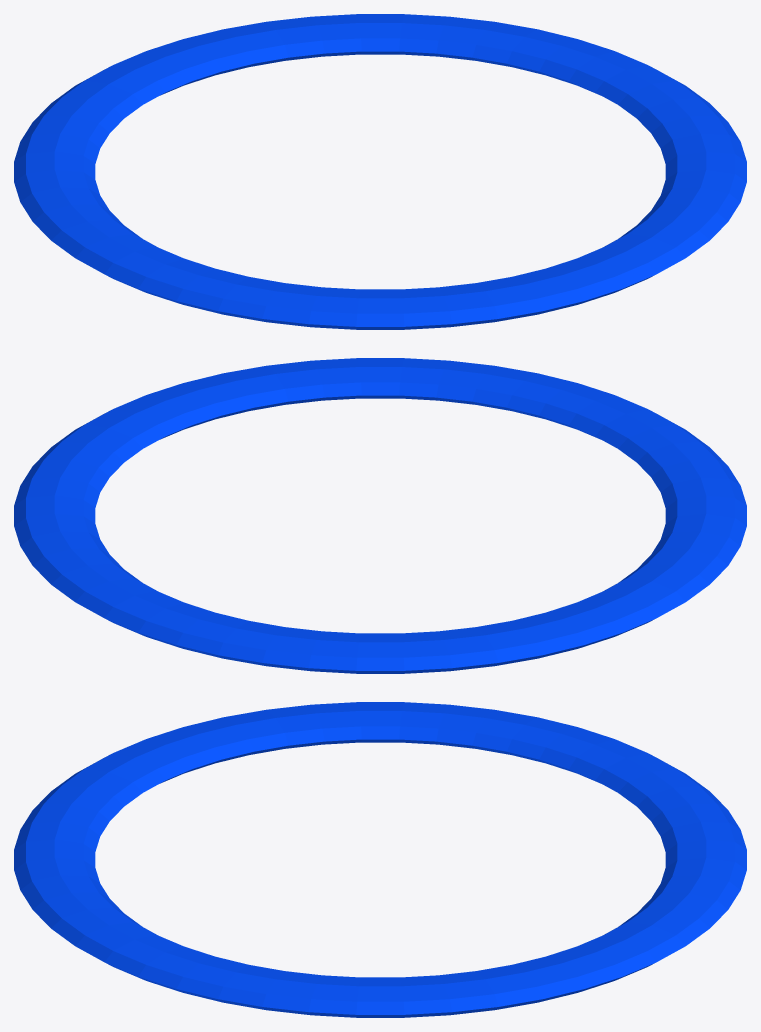
The model's file is select_model.glb.
3 views of the same model, one above another, from view 1: azimuth 30°, elevation 25°; view 2: azimuth 150°, elevation 25°; view 3: azimuth 270°, elevation 25° (orthographic).
Parts seen in each view (by area): view 1: torus; view 2: torus; view 3: torus.
Part boxes in pixels (box(x1,y1,x2,y2)): torus: box(14, 14, 746, 329); torus: box(14, 358, 746, 673); torus: box(14, 702, 746, 1017).
Size of the model in its own units: 0.81 by 0.0277 by 0.81.
Materials: 1 (1 with a texture image).
